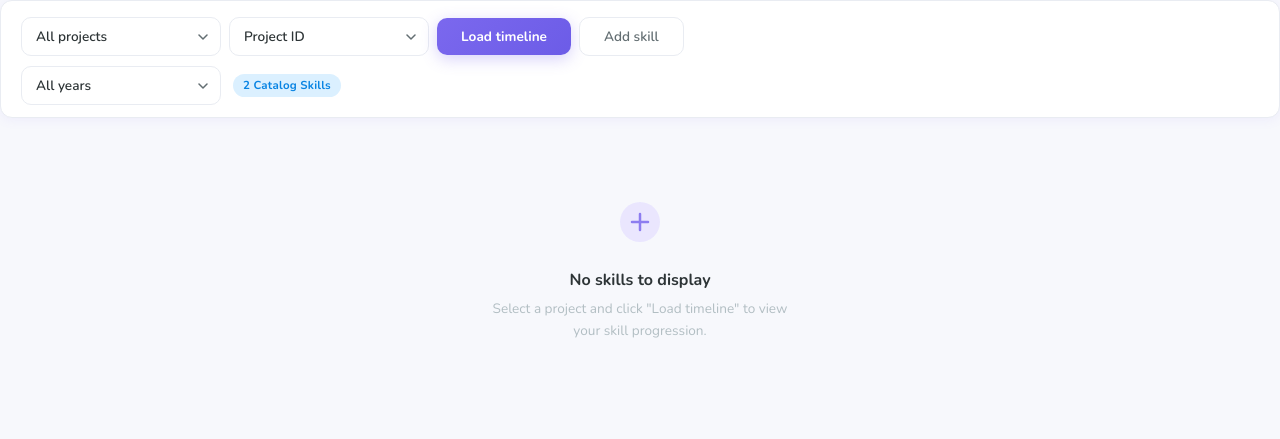
Test case: SkillsTimeline › shows selected project count based on loaded timeline cards
Expected: the button "Load timeline" is enabled, [437,18,571,55]
Select "Alpha (ziphash0)" in the dropdown named "Project selector". click: [121, 36]
box: [21,17,221,56]
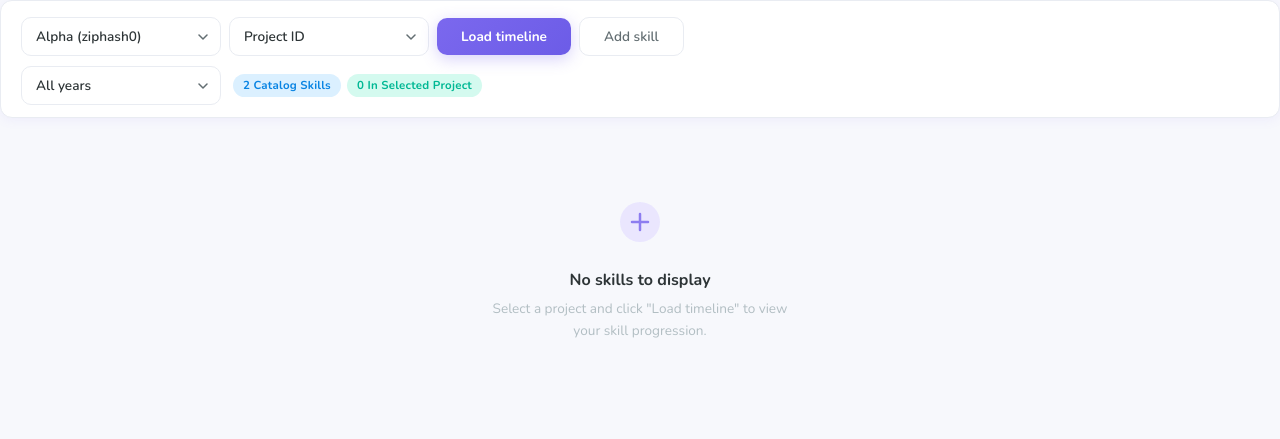
Click the button "Load timeline". click: [504, 36]
box: [437,18,571,55]
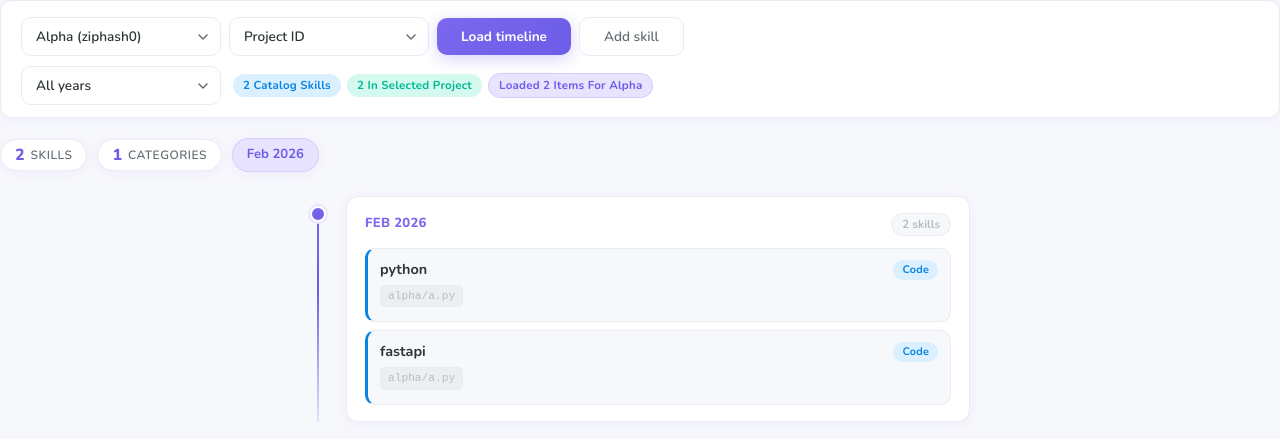
Expected: the text "Loaded 2 items for Alpha" is shown, [488,73,654,98]
Expected: the text "2 in selected project" is shown, [347,74,482,97]
